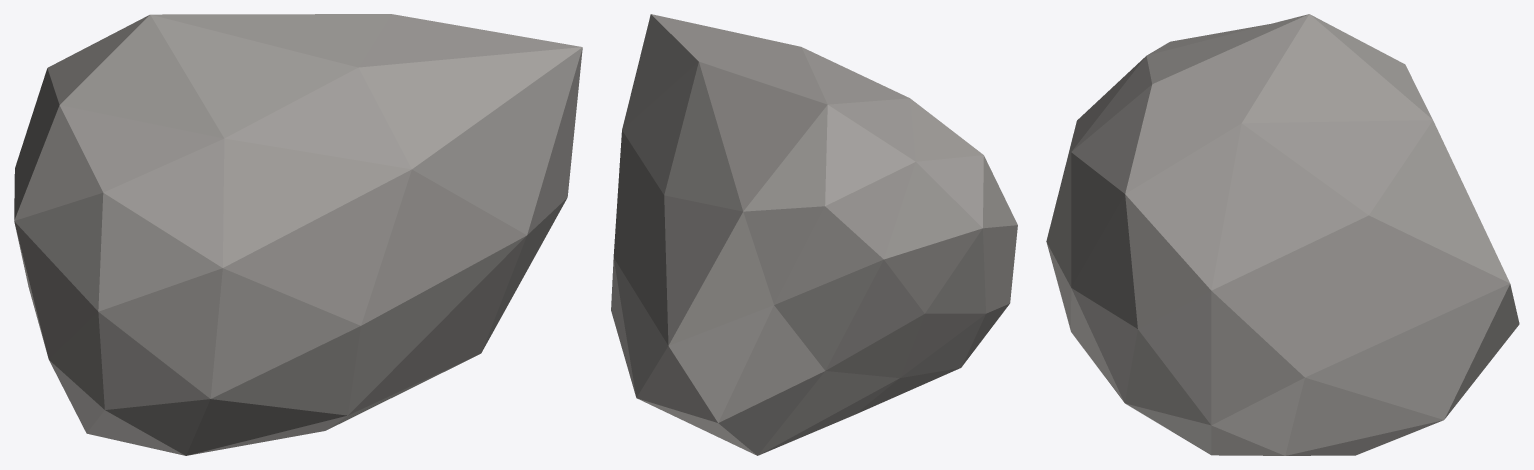
The model's file is Rock3.fbx.
3 renders of one model, left to right at view 1: azimuth 30°, elevation 25°; view 2: azimuth 150°, elevation 25°; view 3: azimuth 270°, elevation 25°, orthographic. The views are drawn at different scales.
Visible parts, largest first — view 1: Rock007; view 2: Rock007; view 3: Rock007.
Boxes of the visible parts, x1,y1,x2,y2 form: Rock007: (14, 14, 582, 455); Rock007: (611, 14, 1017, 455); Rock007: (1046, 14, 1519, 455).
Bounding box in the file's own units: 76.19 × 61.34 × 69.43.
